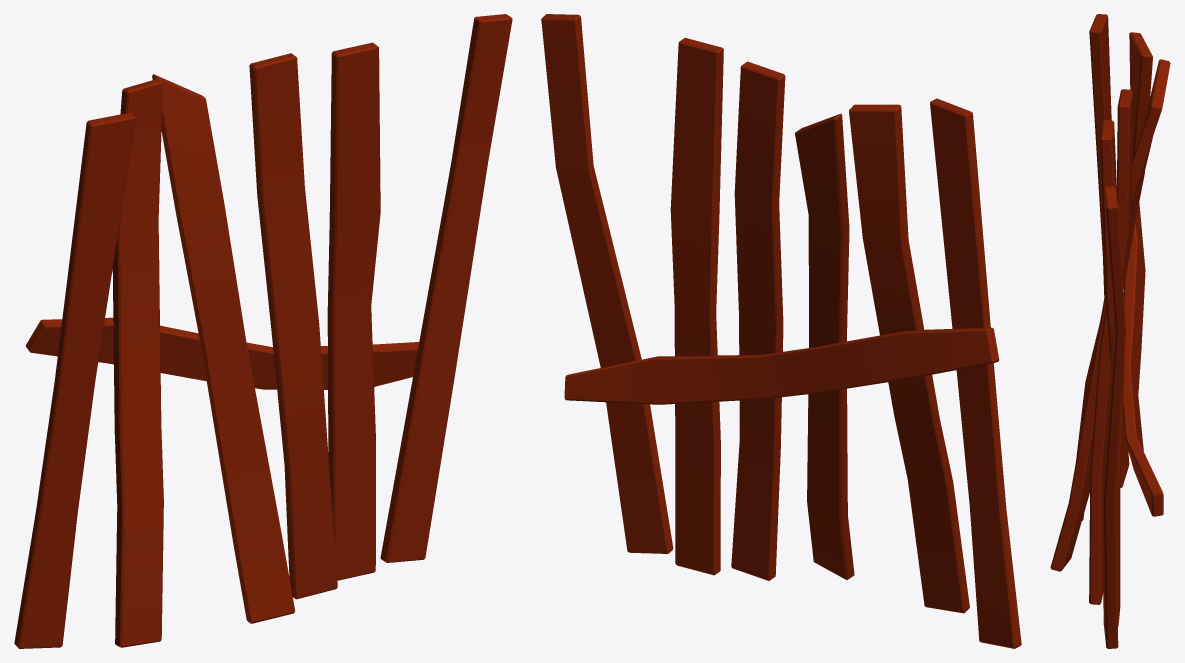
Rendered from Baricade_01_03.fbx.
The picture shows the model from 3 angles, left to right: view 1: azimuth 30°, elevation 25°; view 2: azimuth 150°, elevation 25°; view 3: azimuth 270°, elevation 25°; orthographic projection. The views are drawn at different scales.
Parts seen in each view (by area): view 1: Baricade_01_03; view 2: Baricade_01_03; view 3: Baricade_01_03.
Part boxes in pixels (x1,y1,x2,y2): Baricade_01_03: (14,14,512,648); Baricade_01_03: (541,14,1021,648); Baricade_01_03: (1050,14,1170,648).
Bounding box in the file's own units: 255 × 264 × 58.55.
